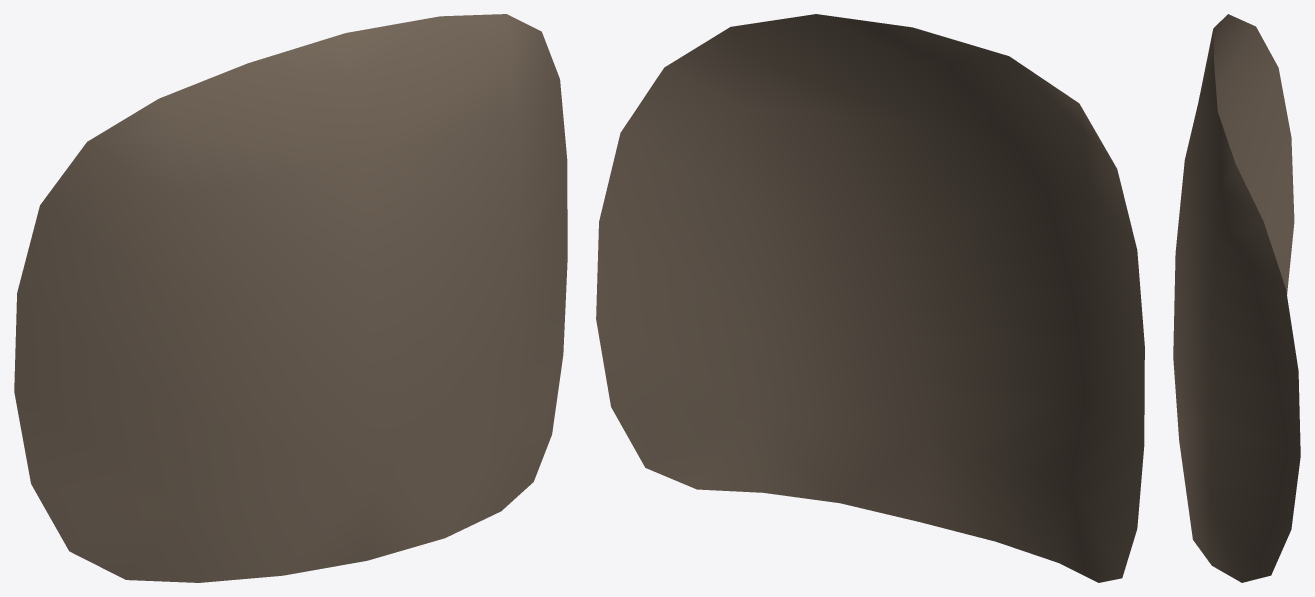
Rendered from MD_nail_FootL.Little.fbx.
The picture shows the model from 3 angles, left to right: view 1: azimuth 30°, elevation 25°; view 2: azimuth 150°, elevation 25°; view 3: azimuth 270°, elevation 25°; orthographic projection. The views are drawn at different scales.
Visible parts, largest first — view 1: MD_nail_FootL.Little; view 2: MD_nail_FootL.Little; view 3: MD_nail_FootL.Little.
Part boxes in pixels (x1,y1,x2,y2): MD_nail_FootL.Little: (14,14,567,582); MD_nail_FootL.Little: (596,14,1144,582); MD_nail_FootL.Little: (1173,14,1300,582).
Bounding box in the file's own units: 0.5793 × 0.5153 × 0.1351.
